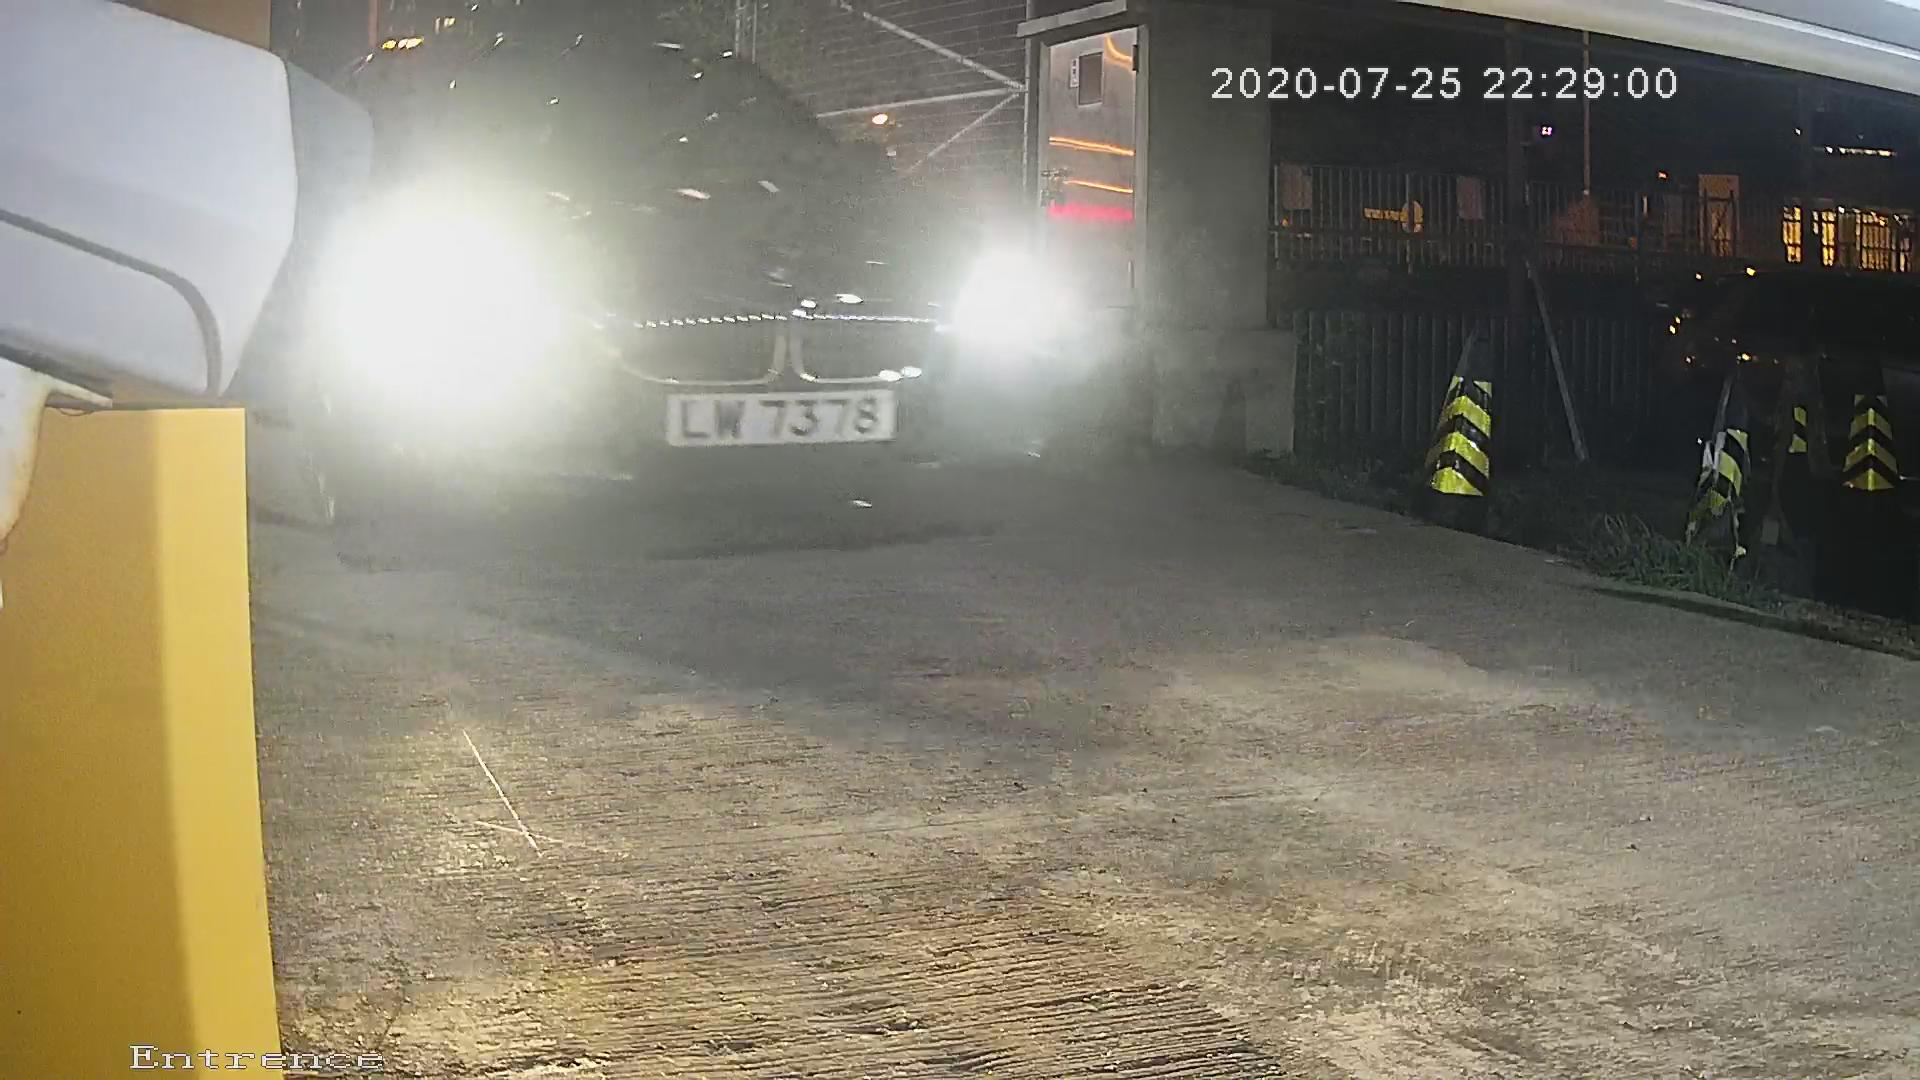License Plate: (618, 372, 909, 463)
